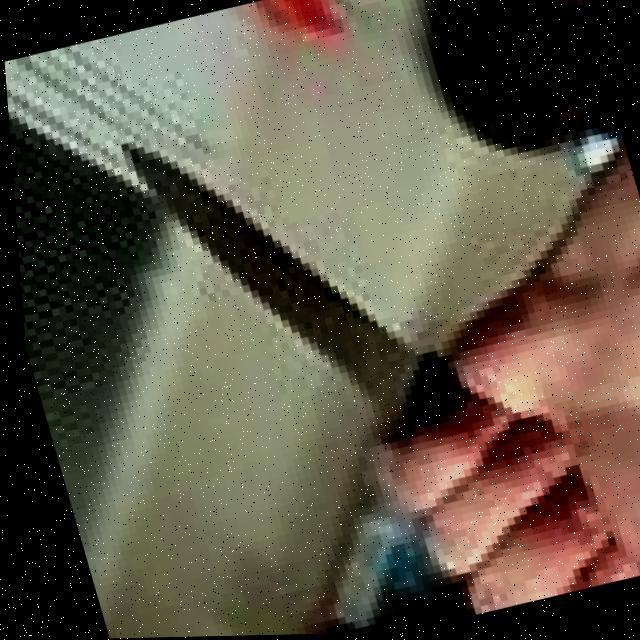knife: (111, 82, 470, 492)
